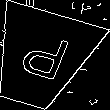P_S: (11, 29, 71, 89)
